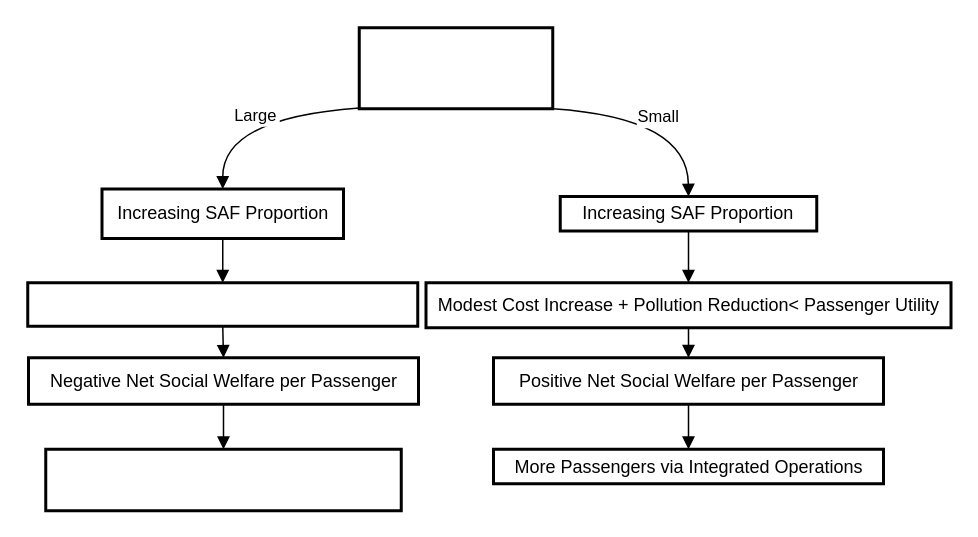
The diagram is 978 pixels wide and 537 high, and some of its shapes have lost their labels. The shapes that lost their labels are listed below. From the top down, each one's centre as x and y in pixels, then its label:
pixel 455 68: Price Gap
pixel 222 303: High Pollution & Fuel Costs > Passenger Utility
pixel 223 479: Independent operate to reduce passengers
